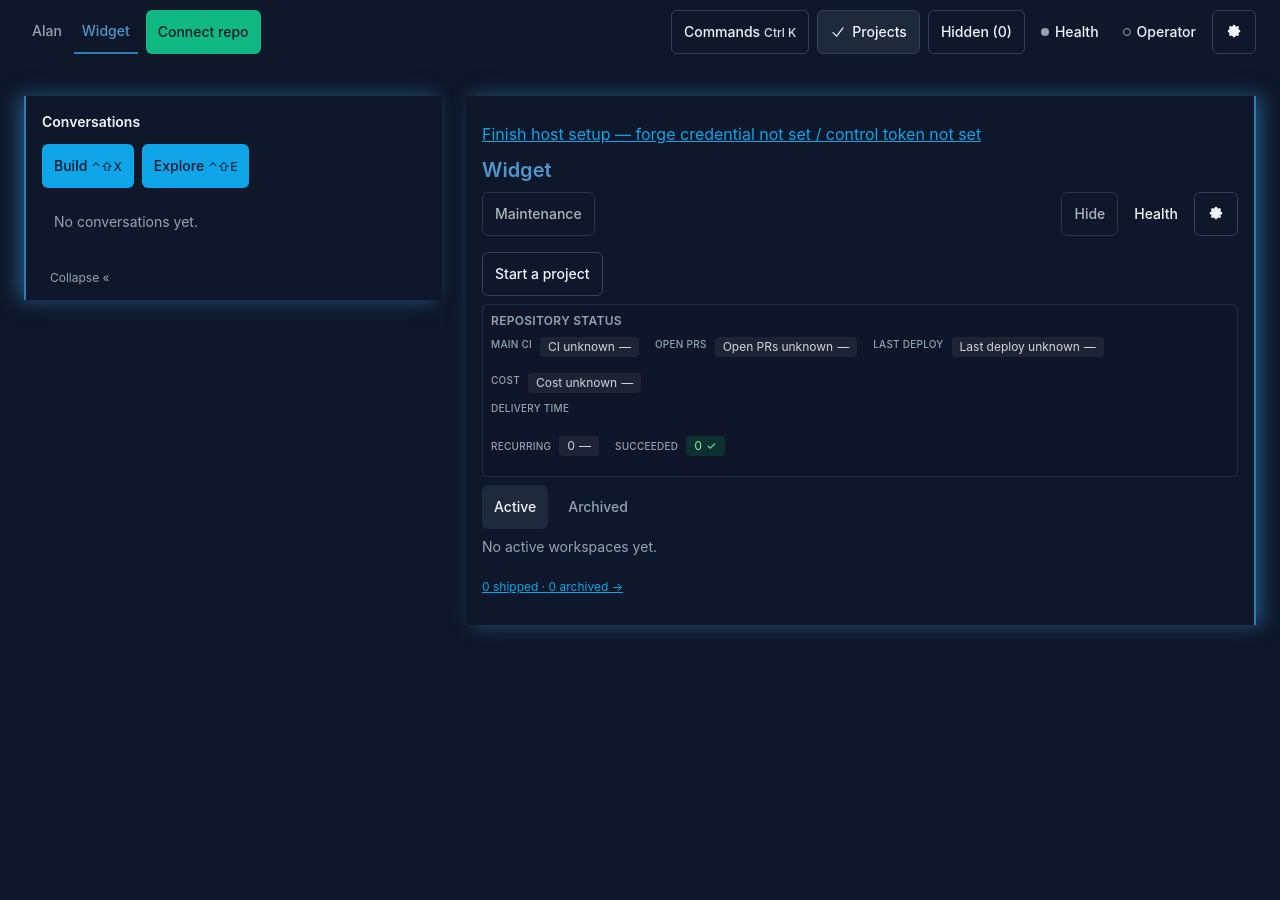
it: App shell — nav badges and settings › opens the settings modal when the gear is clicked, and Escape closes it
The image size is (1280, 900).
Expected: the link with test id "top-bar-repo-acme/widget" is shown, [74,10,138,54]
Click the button with test id "settings-gear" at (1234, 32), box [1212,10,1256,54]
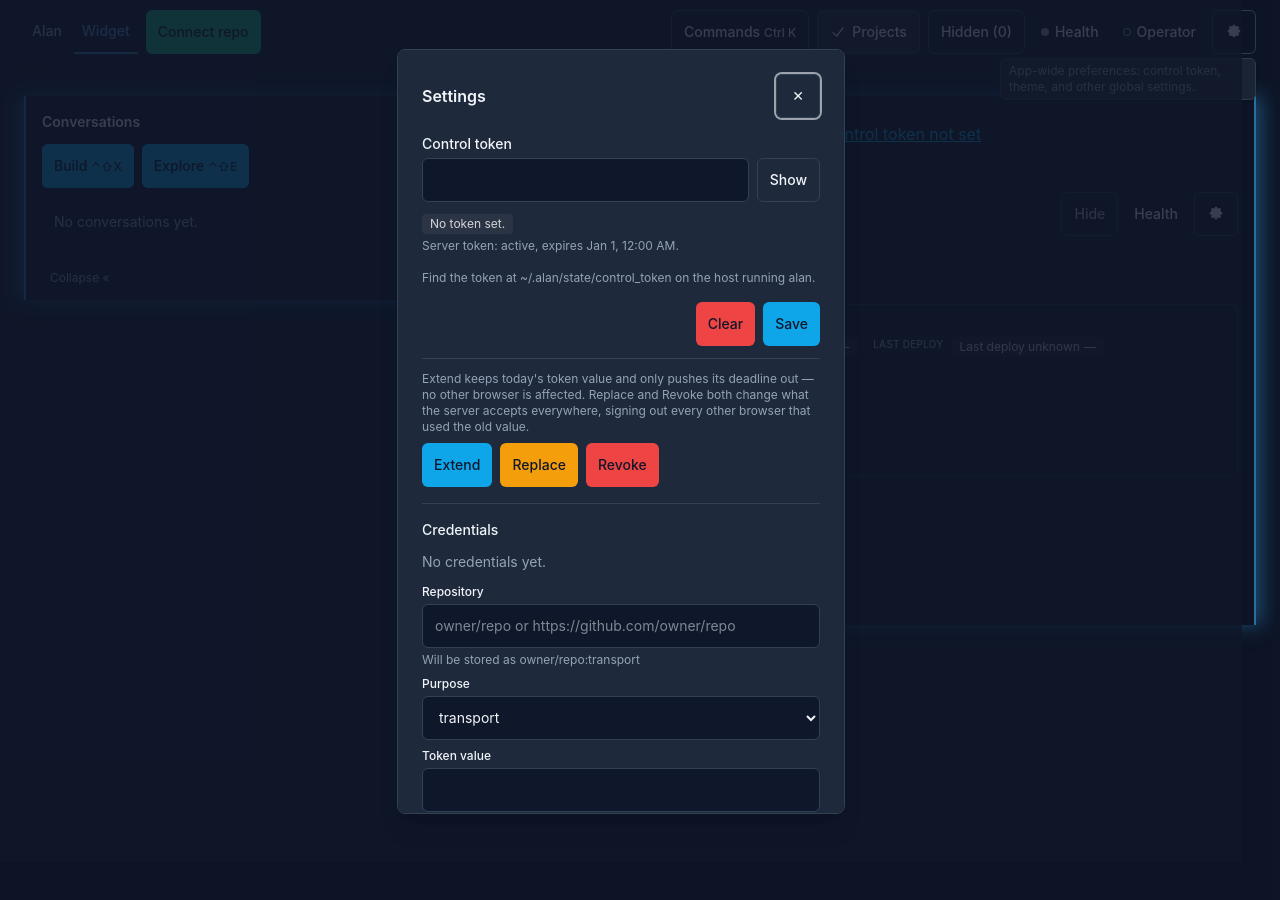
Expected: the dialog with test id "settings-modal" is shown
Press Escape in the element that starts with "Settings", box [397,48,845,814]
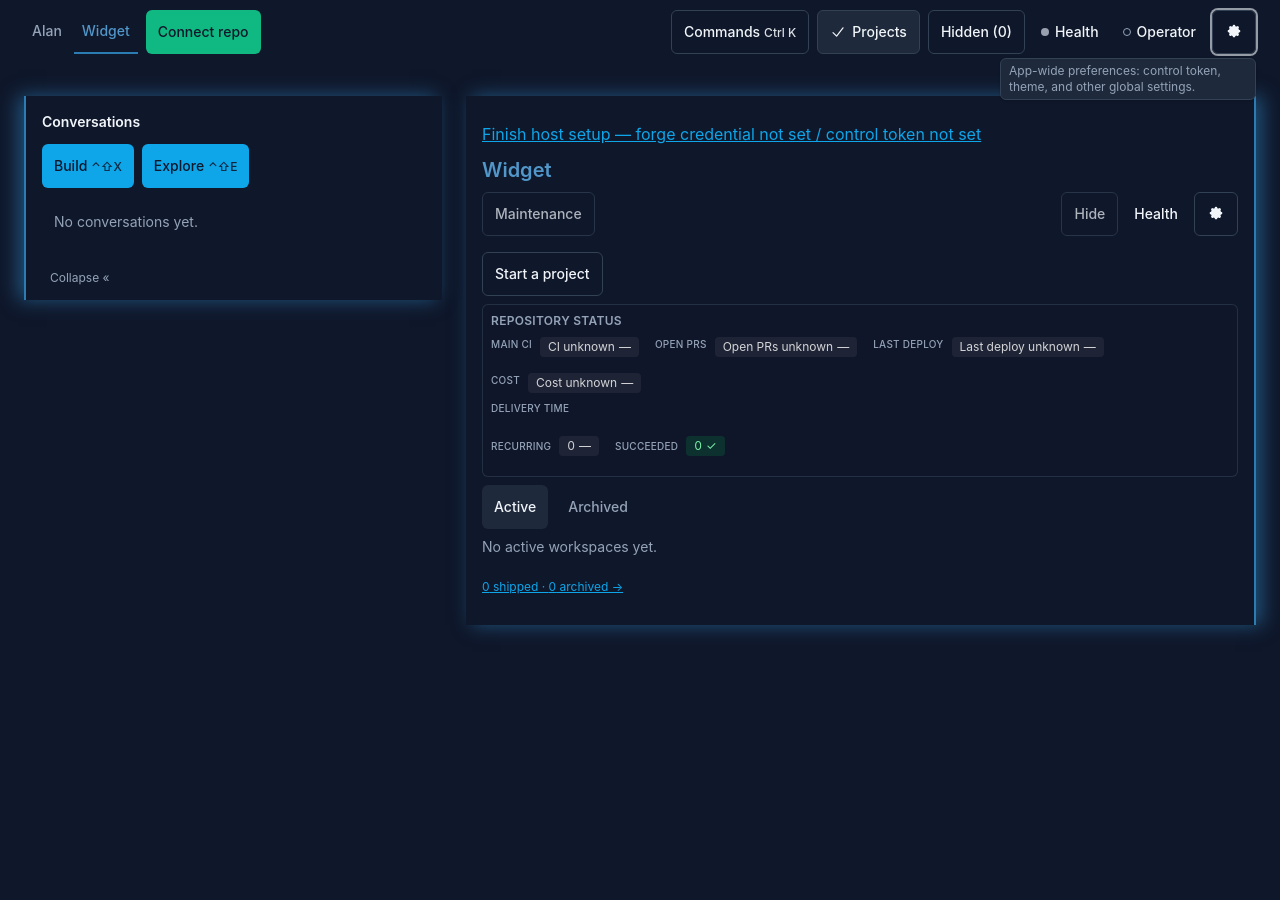
Expected: the dialog with test id "settings-modal" is gone
